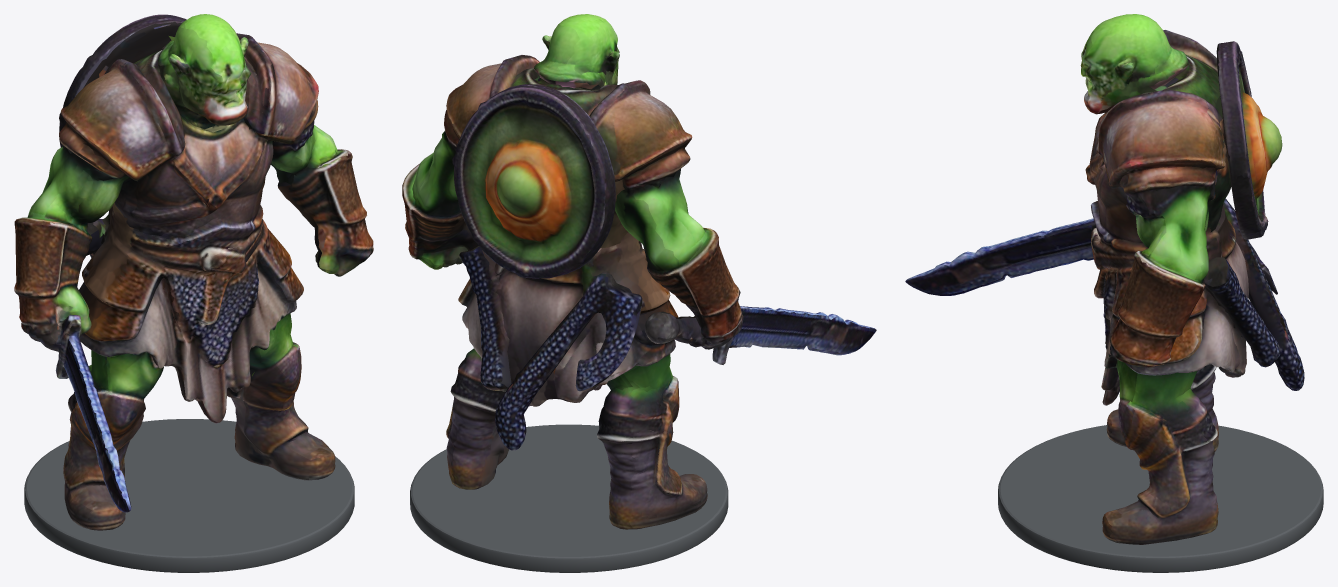
File: orc-swordsman.glb
The picture shows the model from 3 angles, left to right: view 1: azimuth 30°, elevation 25°; view 2: azimuth 150°, elevation 25°; view 3: azimuth 270°, elevation 25°; orthographic projection. The views are drawn at different scales.
Parts seen in each view (by area): view 1: orc-swordsman_body, orc-swordsman_round_base; view 2: orc-swordsman_body, orc-swordsman_round_base; view 3: orc-swordsman_body, orc-swordsman_round_base.
Part boxes in pixels (x1,y1,x2,y2): orc-swordsman_body: (14,14,373,530); orc-swordsman_round_base: (24,419,354,572); orc-swordsman_body: (402,14,876,529); orc-swordsman_round_base: (410,424,728,572); orc-swordsman_body: (905,14,1304,544); orc-swordsman_round_base: (998,425,1323,572).
Bounding box in the file's own units: 1.26 × 1.65 × 1.28.
Materials: 2 (1 with a texture image).
